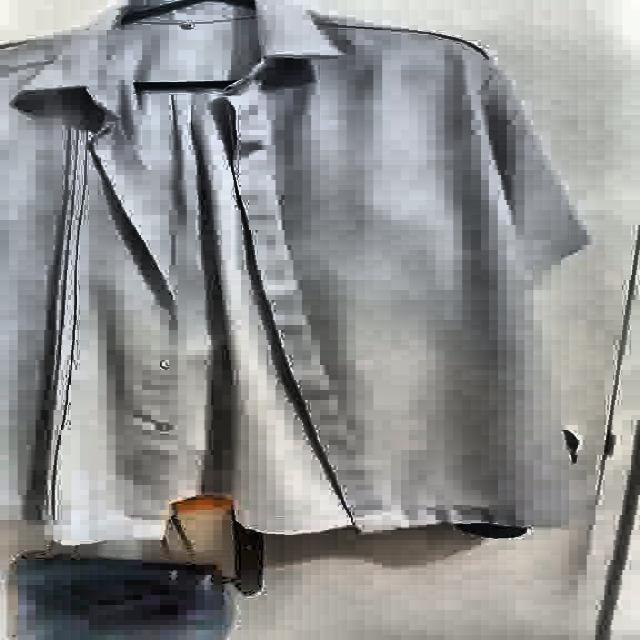clothes: (2, 0, 586, 546)
